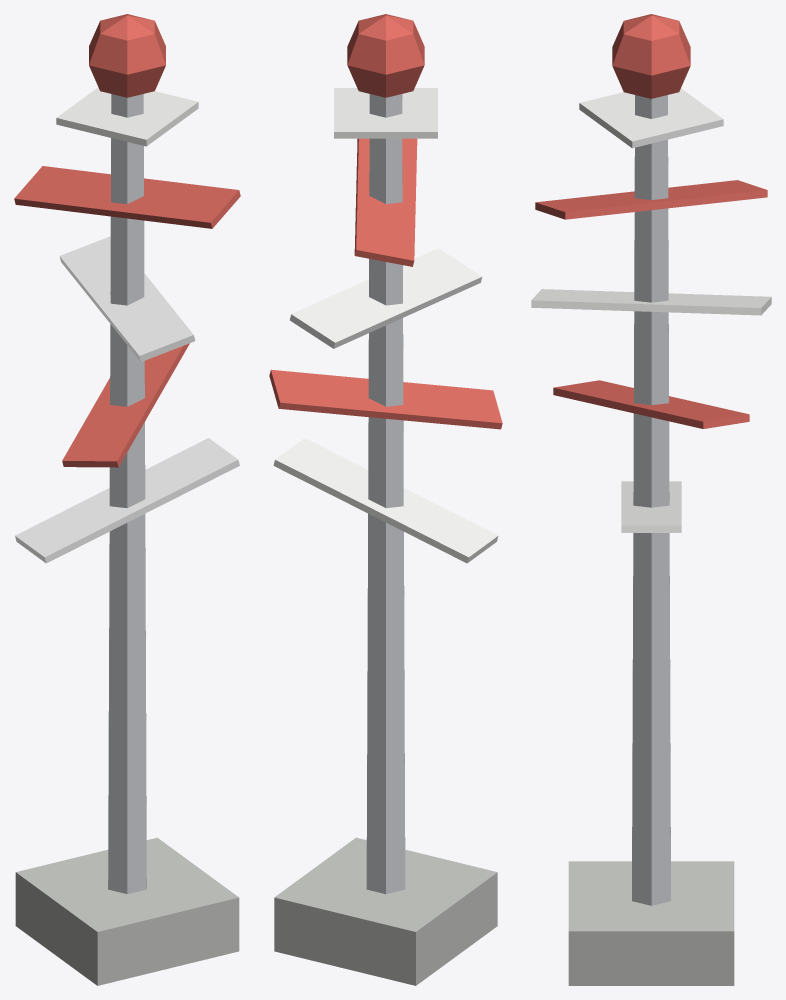
Rendered from wind-and-solar-energy-farm-bird-deterrent-post-586348e3__34085.glb.
The picture shows the model from 3 angles, left to right: view 1: azimuth 30°, elevation 25°; view 2: azimuth 150°, elevation 25°; view 3: azimuth 270°, elevation 25°; orthographic projection.
Parts seen in each view (by area): view 1: bird-deterrent-post; view 2: bird-deterrent-post; view 3: bird-deterrent-post.
Part boxes in pixels (bbox=[...]): bird-deterrent-post: bbox=[14, 14, 240, 985]; bird-deterrent-post: bbox=[269, 14, 502, 985]; bird-deterrent-post: bbox=[531, 14, 771, 985].
Bounding box in the file's own units: 0.6065 × 2.74 × 0.6384.
